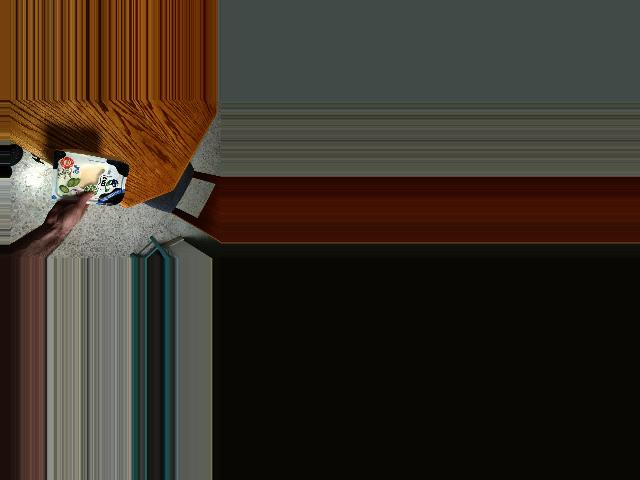cheese: (61, 154, 130, 206)
